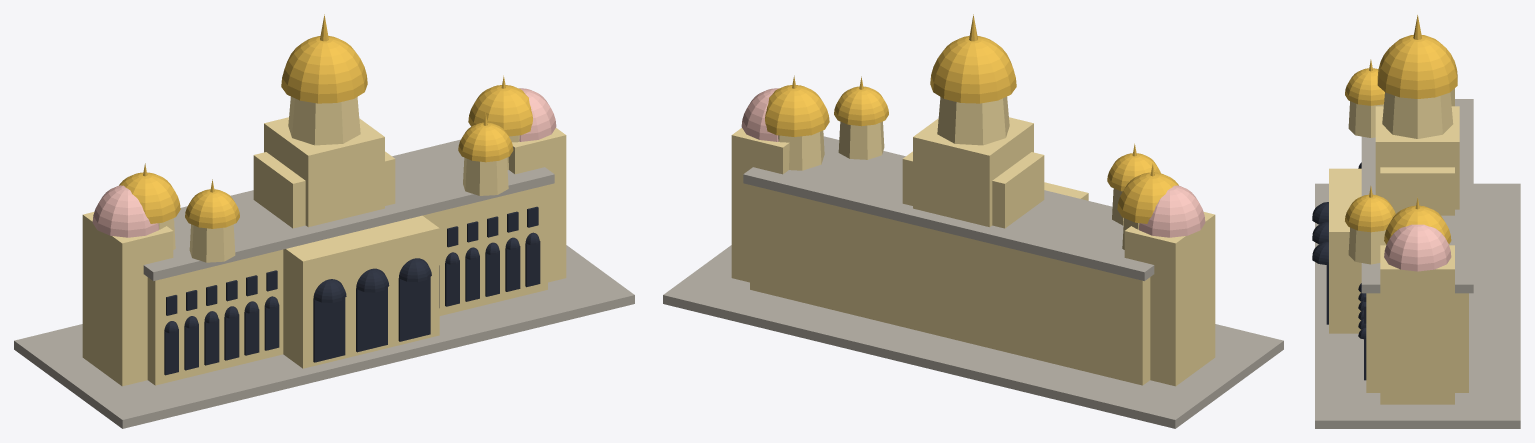
Rendered from mysore-palace.glb.
3 renders of one model, left to right at view 1: azimuth 30°, elevation 25°; view 2: azimuth 150°, elevation 25°; view 3: azimuth 270°, elevation 25°, orthographic. The views are drawn at different scales.
Parts seen in each view (by area): view 1: mysore-palace; view 2: mysore-palace; view 3: mysore-palace.
Part boxes in pixels (left/top/right/bottom): mysore-palace: left=14, top=14, right=634, bottom=428; mysore-palace: left=663, top=14, right=1283, bottom=428; mysore-palace: left=1312, top=15, right=1520, bottom=428.
Size of the model in its own units: 6.86 by 4 by 2.54.
